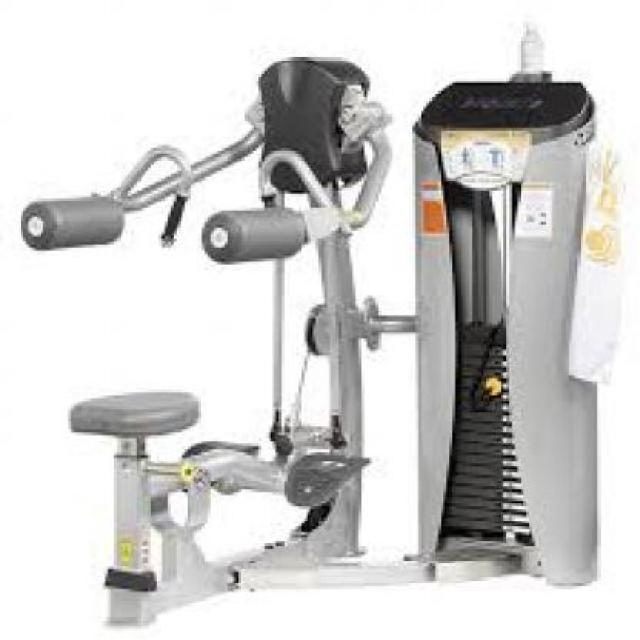lateral raises machine: (20, 146, 597, 626)
